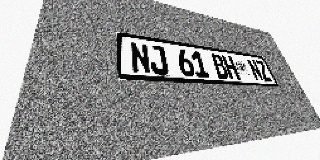1: (189, 50, 210, 78)
6: (175, 48, 196, 77)
B: (210, 53, 230, 79)
H: (221, 55, 241, 80)
J: (148, 44, 169, 75)
N: (130, 42, 151, 74), (246, 59, 265, 81)
Z: (255, 60, 273, 82)
